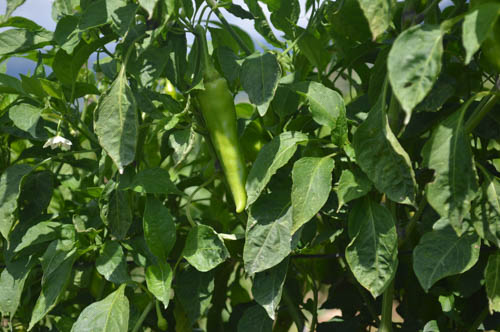ChiliPepper: (203, 78, 249, 210)
